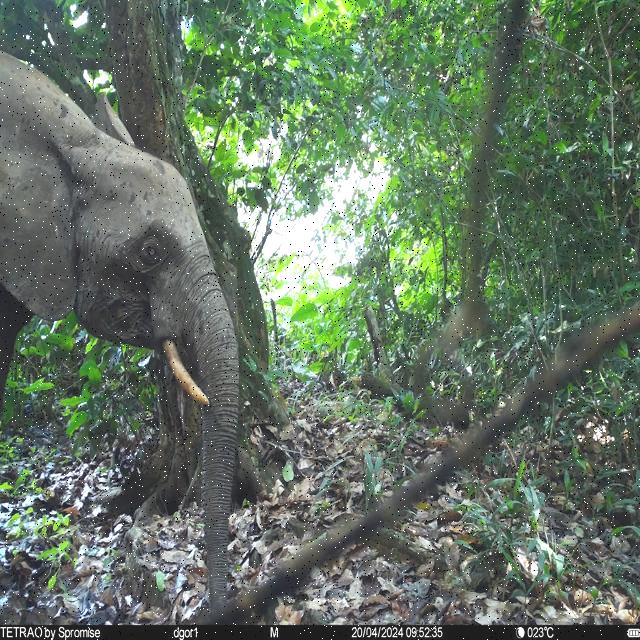ear: (0, 51, 83, 324)
elephant: (0, 49, 239, 618)
tusk: (162, 338, 212, 408)
